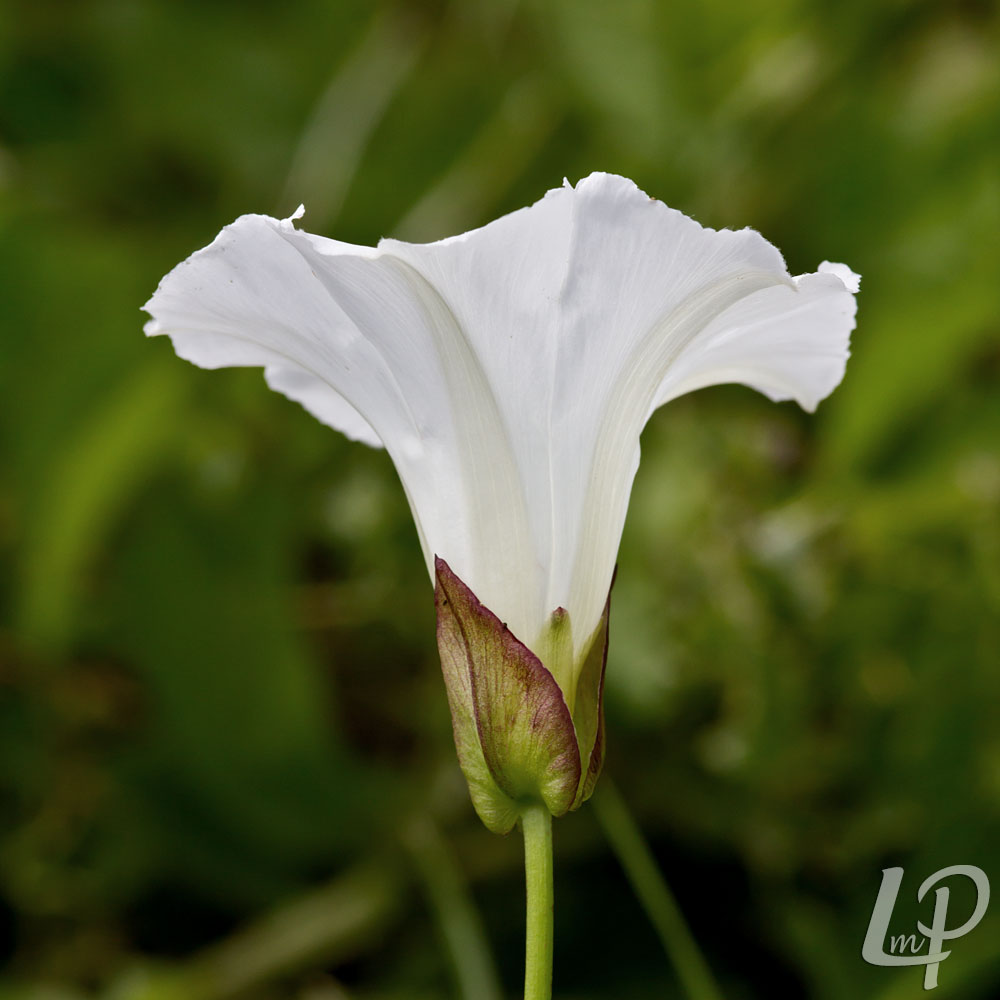haagwinde: (90, 101, 908, 867)
